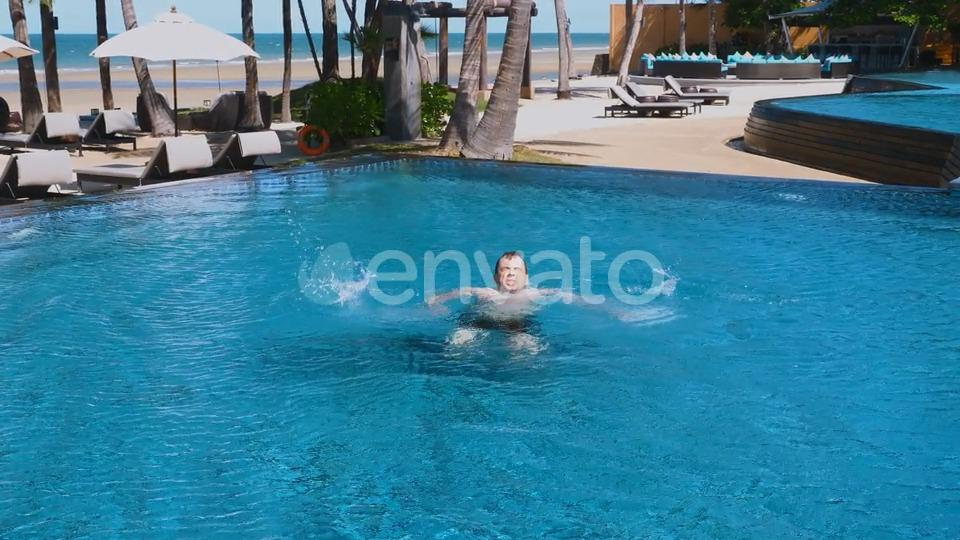Drowning: (365, 159, 674, 400)
